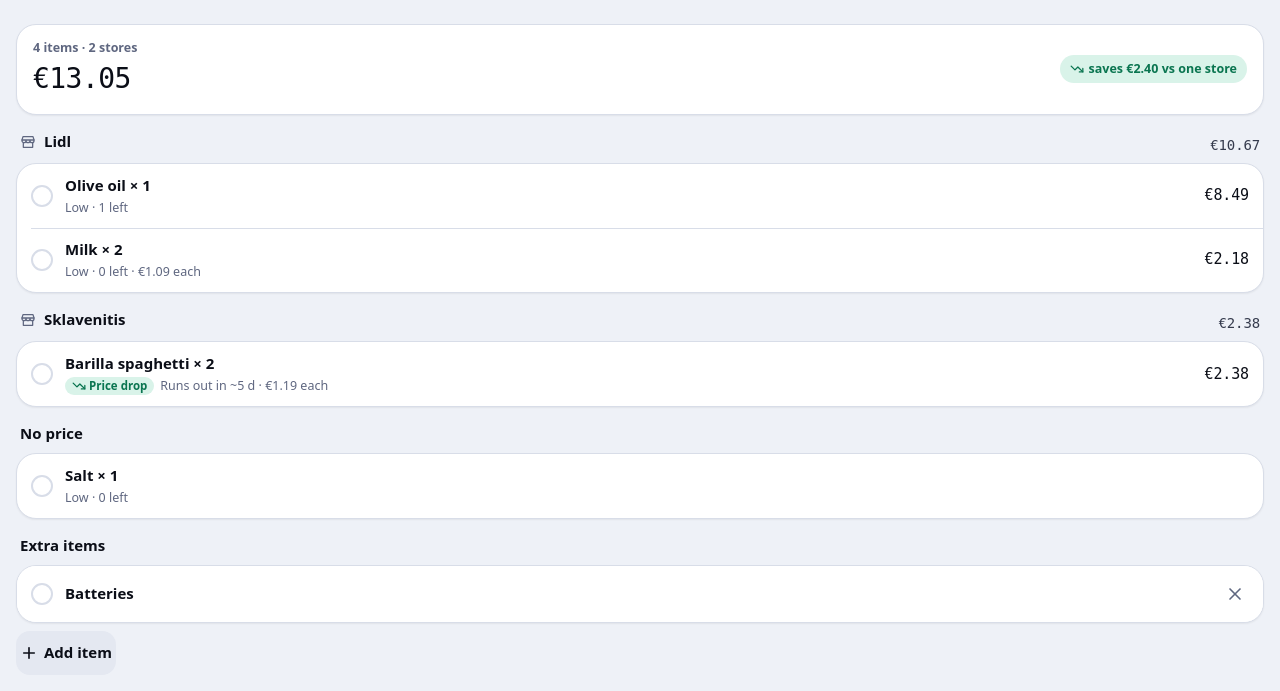
Test: review I-2: deleting a line whose add is still queued queues behind it, and is not sent online
The image size is (1280, 691).
(page scrolled)
Click the button "Add item".
click(66, 653)  # box [16,631,116,675]
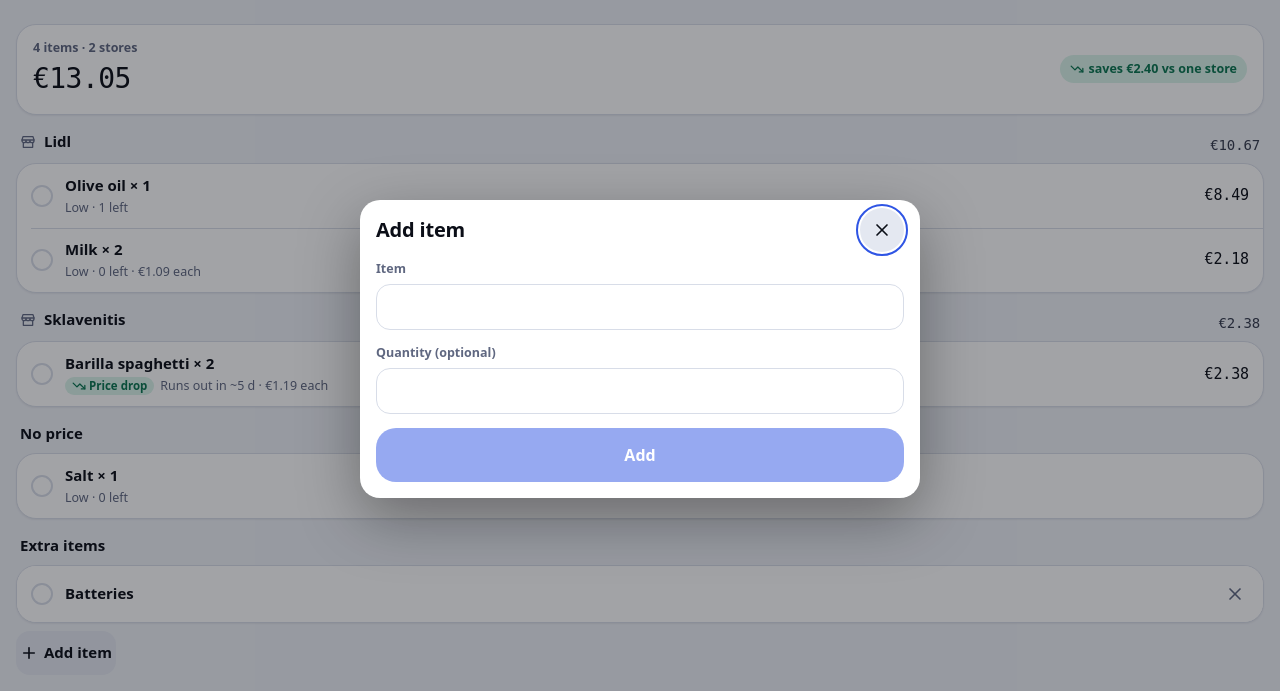
Type "Soap" into the field labelled "Item".
click(640, 307); type("Soap")  # box [376,284,904,330]
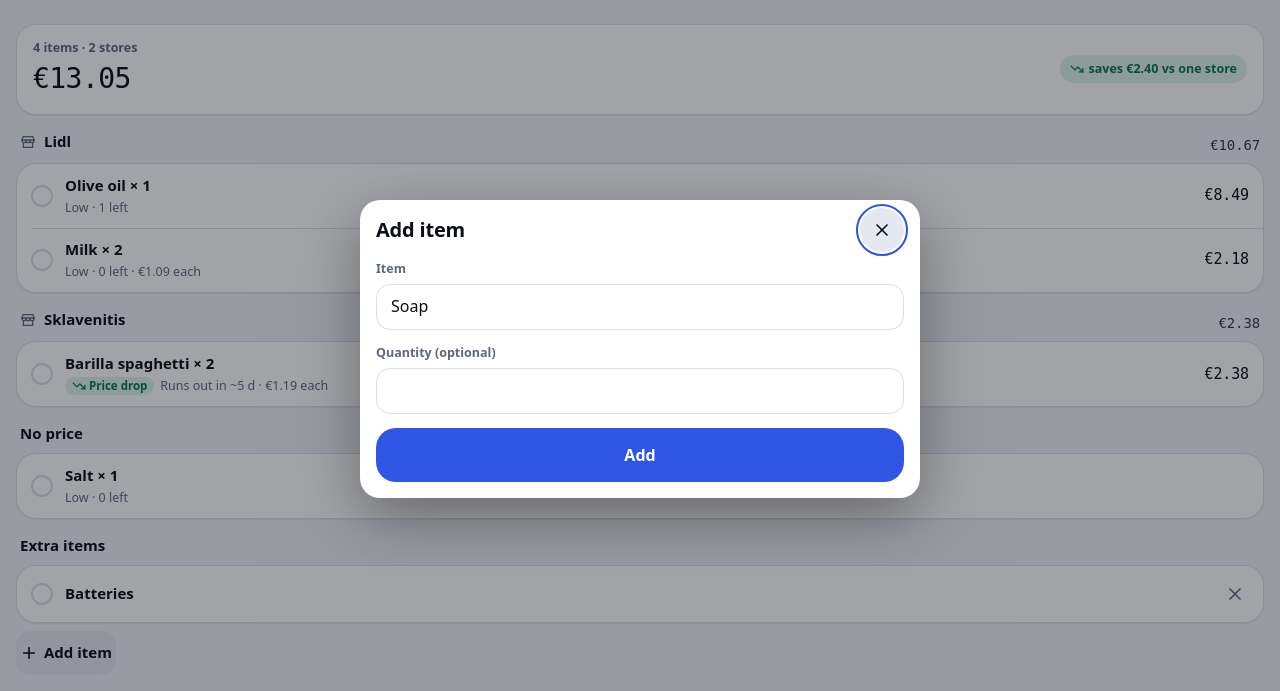
Click the button "Add".
click(640, 455)  # box [376,428,904,482]
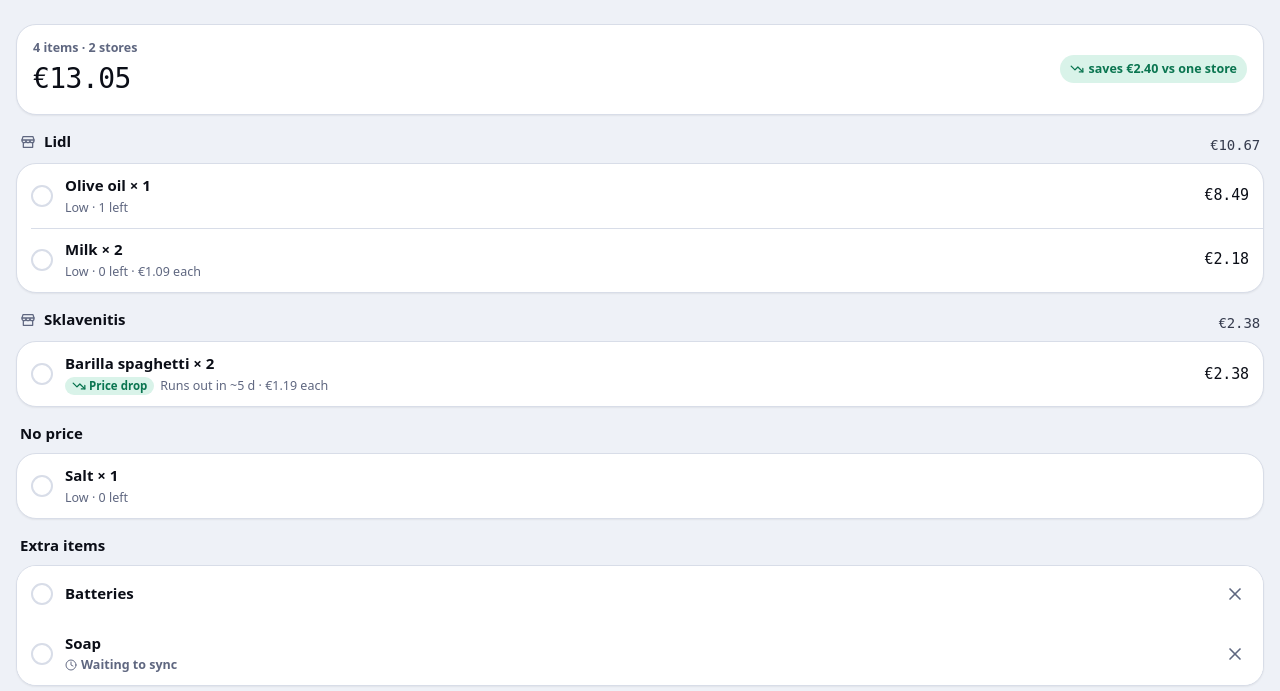
Click the button named "Delete Soap".
click(1235, 654)  # box [1213,632,1257,676]
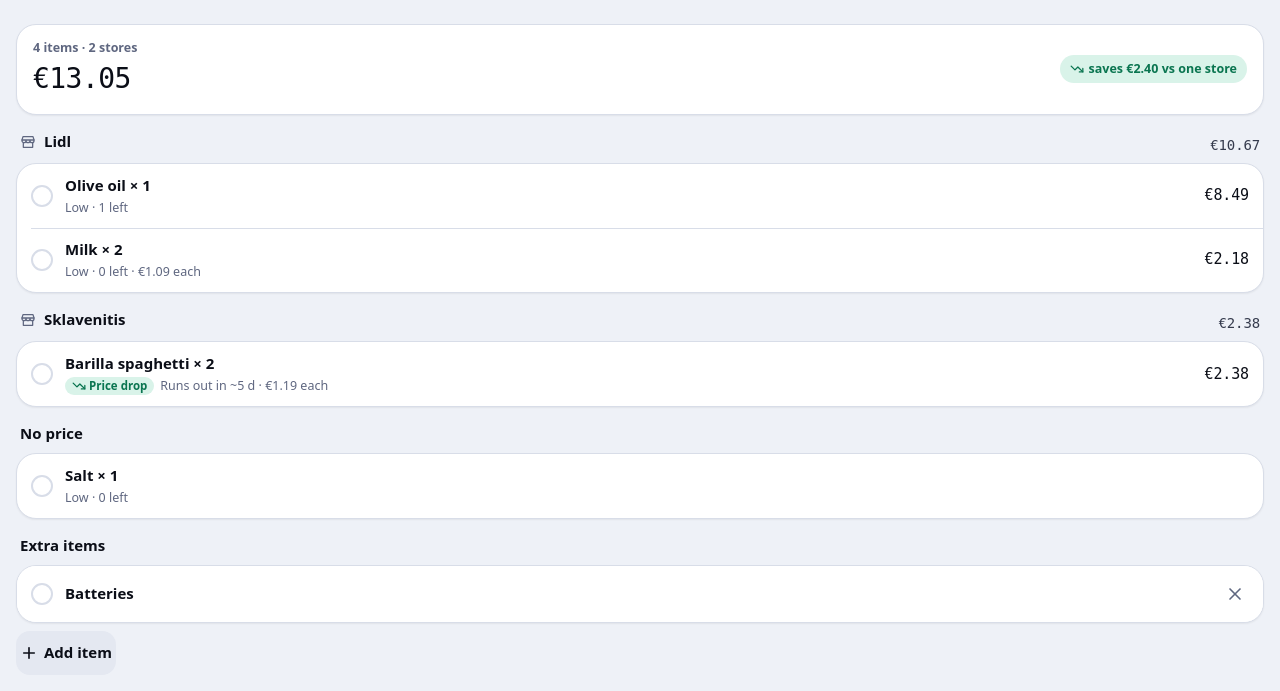
Check: the checkbox labelled "Soap" is gone
